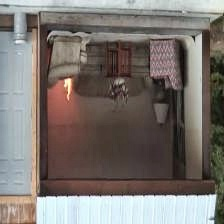fire: (53, 65, 82, 107)
